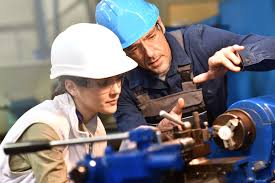Person_wearing_helmet: (42, 20, 125, 99), (92, 0, 176, 45)
